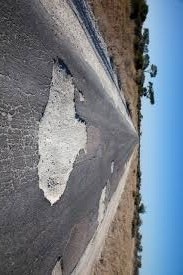pothole: (28, 53, 95, 215), (42, 255, 69, 274), (96, 184, 109, 221), (108, 158, 115, 175)
